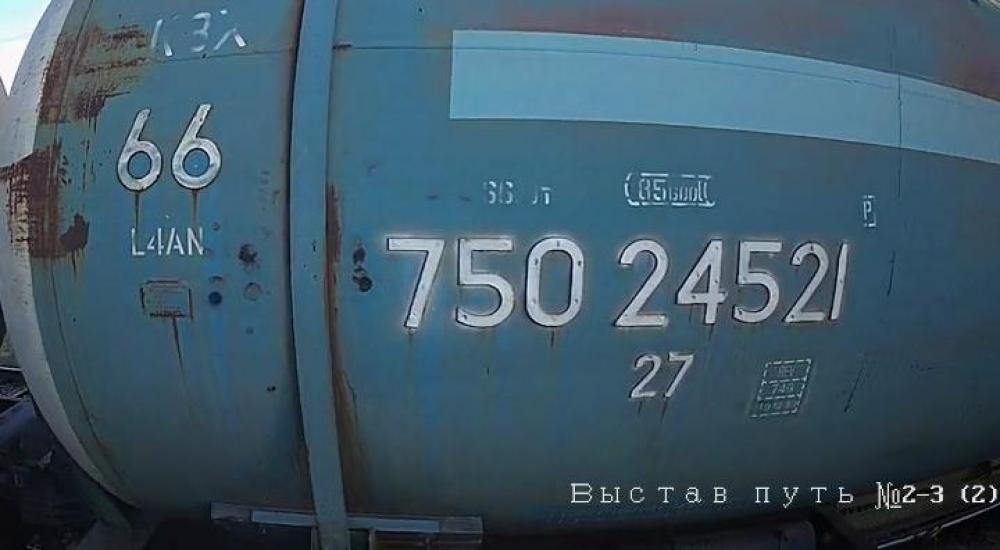Wagon-number: (383, 225, 852, 340)
